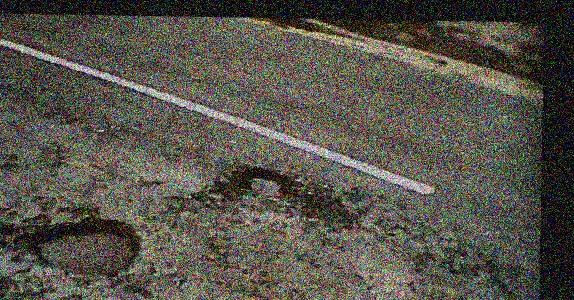pothole: (31, 214, 143, 281), (239, 163, 294, 201)
